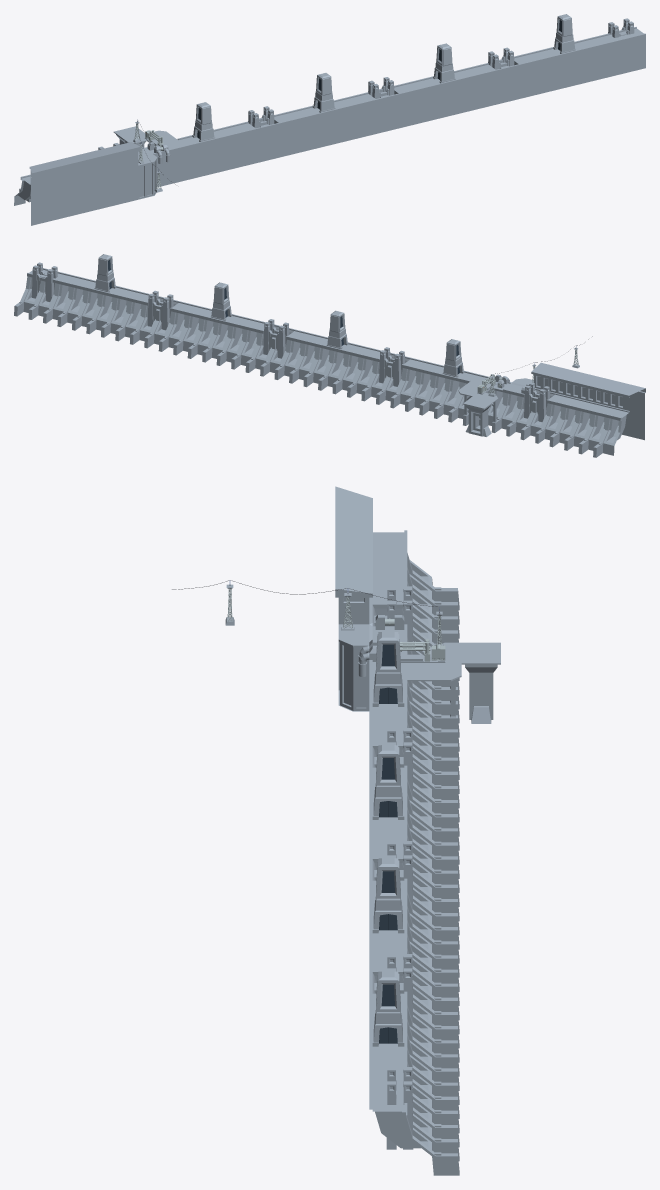
The model's file is Dam.fbx.
The picture shows the model from 3 angles, top to bottom: view 1: azimuth 30°, elevation 25°; view 2: azimuth 150°, elevation 25°; view 3: azimuth 270°, elevation 25°; orthographic projection. The views are drawn at different scales.
Parts seen in each view (by area): view 1: 立方体.100, 立方体.117, 立方体.114, 立方体.102; view 2: 立方体.100, 立方体.114, 立方体.117, 立方体.102, 立方体.121; view 3: 立方体.100, 立方体.117, 立方体.102, 立方体.114.
Part boxes in pixels (x1,y1,x2,y2): 立方体.100: (14,27,645,225); 立方体.117: (192,14,575,141); 立方体.114: (248,18,634,128); 立方体.102: (113,126,176,145); 立方体.100: (14,268,645,457); 立方体.114: (31,262,404,386); 立方体.117: (94,254,464,377); 立方体.102: (458,382,498,436); 立方体.121: (524,382,549,421); 立方体.100: (335,486,459,1175); 立方体.117: (372,632,404,1046); 立方体.102: (407,642,500,723); 立方体.114: (386,728,413,1149).
Bounding box in the file's own units: 35199 × 8670 × 3619.
